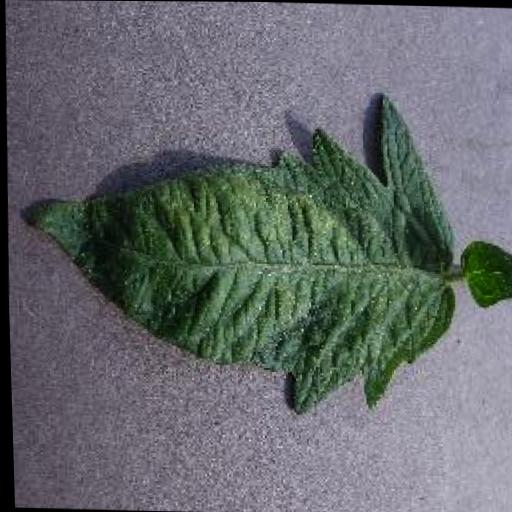Spider Mites: (17, 88, 458, 418)
